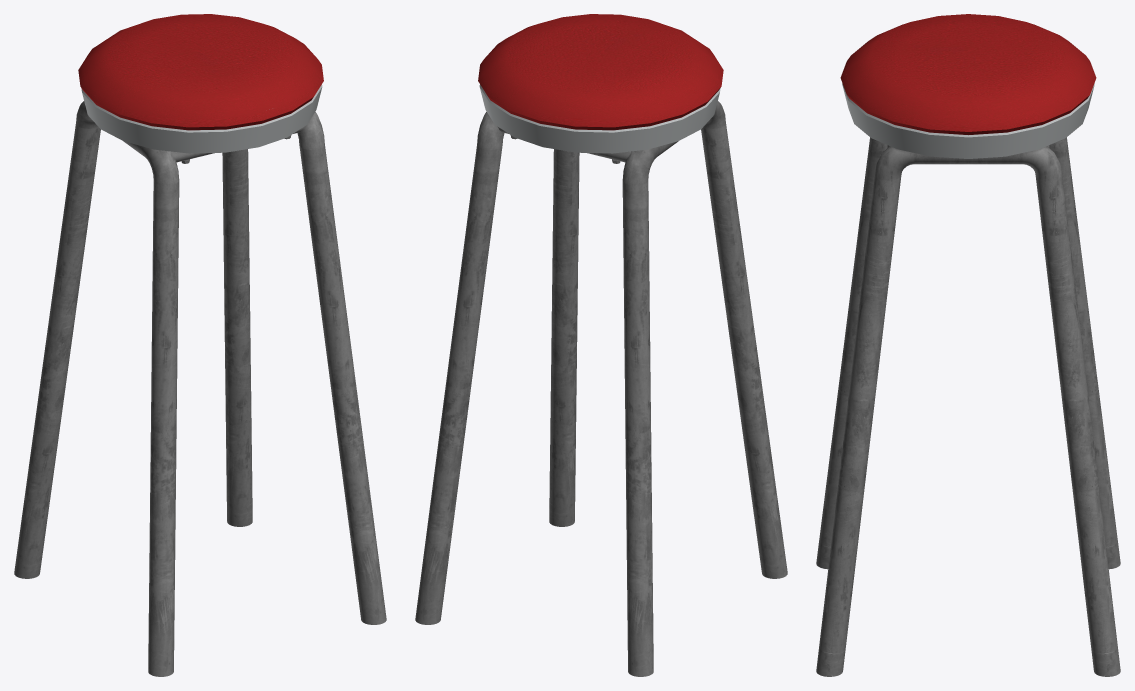
Rendered from obj_barstool_563540.glb.
The picture shows the model from 3 angles, left to right: view 1: azimuth 30°, elevation 25°; view 2: azimuth 150°, elevation 25°; view 3: azimuth 270°, elevation 25°; orthographic projection. The views are drawn at different scales.
Visible parts, largest first — view 1: obj_barstool_563540; view 2: obj_barstool_563540; view 3: obj_barstool_563540.
Boxes of the visible parts, x1,y1,x2,y2 form: obj_barstool_563540: [14, 14, 386, 676]; obj_barstool_563540: [415, 14, 787, 676]; obj_barstool_563540: [816, 14, 1120, 676].
Size of the model in its own units: 0.2256 by 0.5 by 0.244.
1 material, 1 textured.
